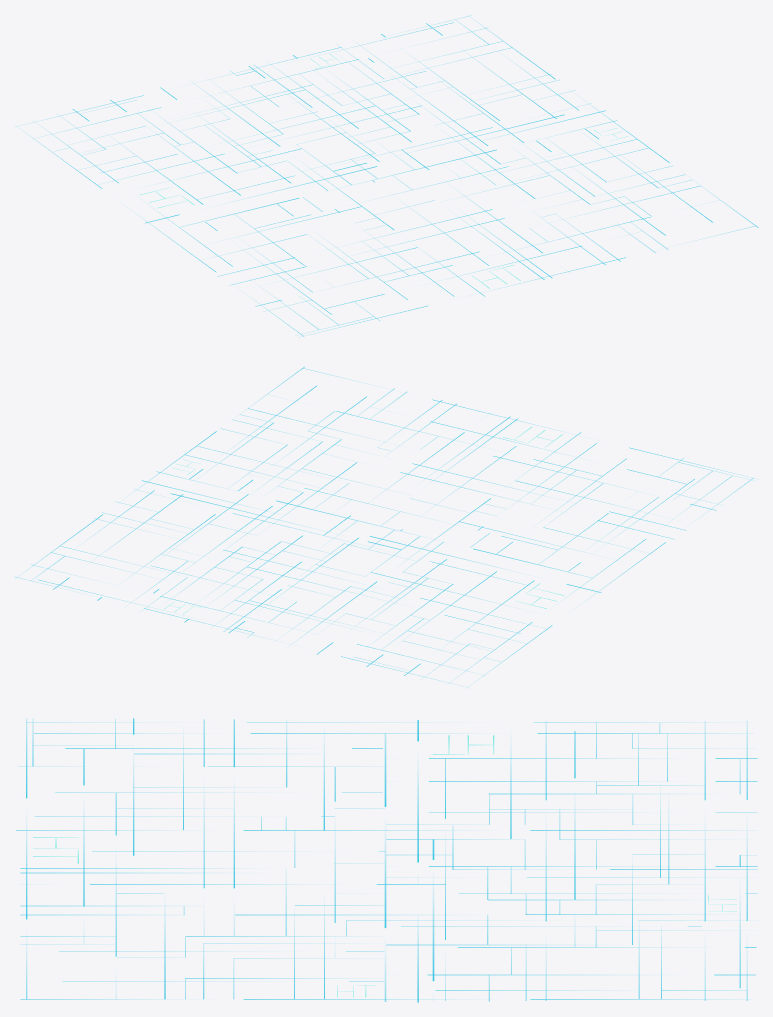
Rendered from dimianmoxing.glb.
The picture shows the model from 3 angles, top to bottom: view 1: azimuth 30°, elevation 25°; view 2: azimuth 150°, elevation 25°; view 3: azimuth 270°, elevation 25°; orthographic projection. The views are drawn at different scales.
Visible parts, largest first — view 1: dimianmoxing; view 2: dimianmoxing; view 3: dimianmoxing.
Boxes of the visible parts, x1,y1,x2,y2 form: dimianmoxing: [16, 15, 758, 336]; dimianmoxing: [15, 366, 754, 687]; dimianmoxing: [16, 718, 757, 1002].
Bounding box in the file's own units: 20028 × 12.34 × 22175.
1 material, 1 textured.
